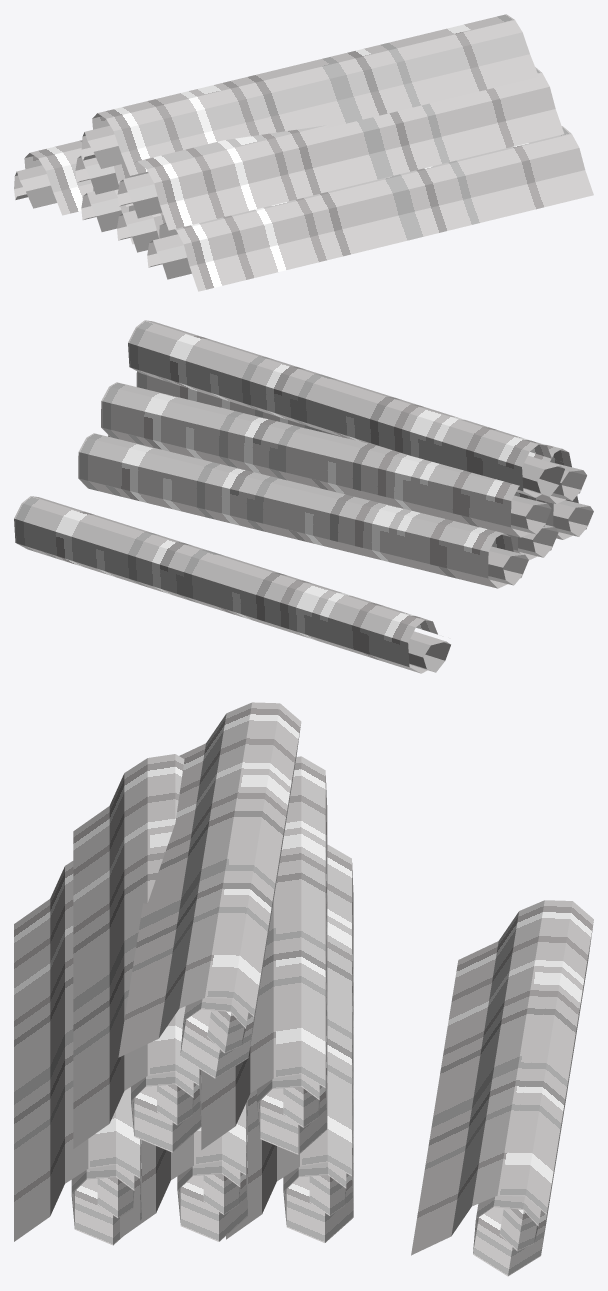
The model's file is scrollsPile1.glb.
3 views of the same model, one above another, from view 1: azimuth 30°, elevation 25°; view 2: azimuth 150°, elevation 25°; view 3: azimuth 270°, elevation 25° (orthographic). The views are drawn at different scales.
Visible parts, largest first — view 1: scrolls; view 2: scrolls; view 3: scrolls.
Part boxes in pixels (bbox=[...]): scrolls: bbox=[14, 14, 593, 291]; scrolls: bbox=[14, 320, 593, 673]; scrolls: bbox=[14, 702, 593, 1276].
Bounding box in the file's own units: 1.23 × 0.4582 × 0.8498.
1 material, 1 textured.
